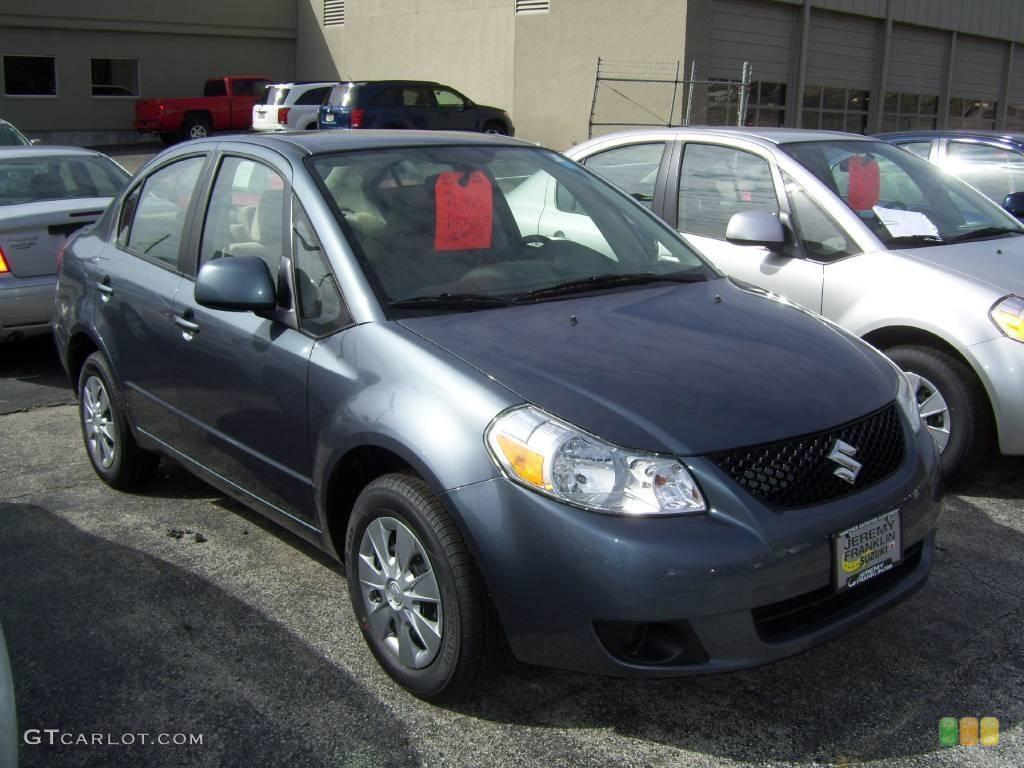suzuki: (815, 434, 874, 491)
